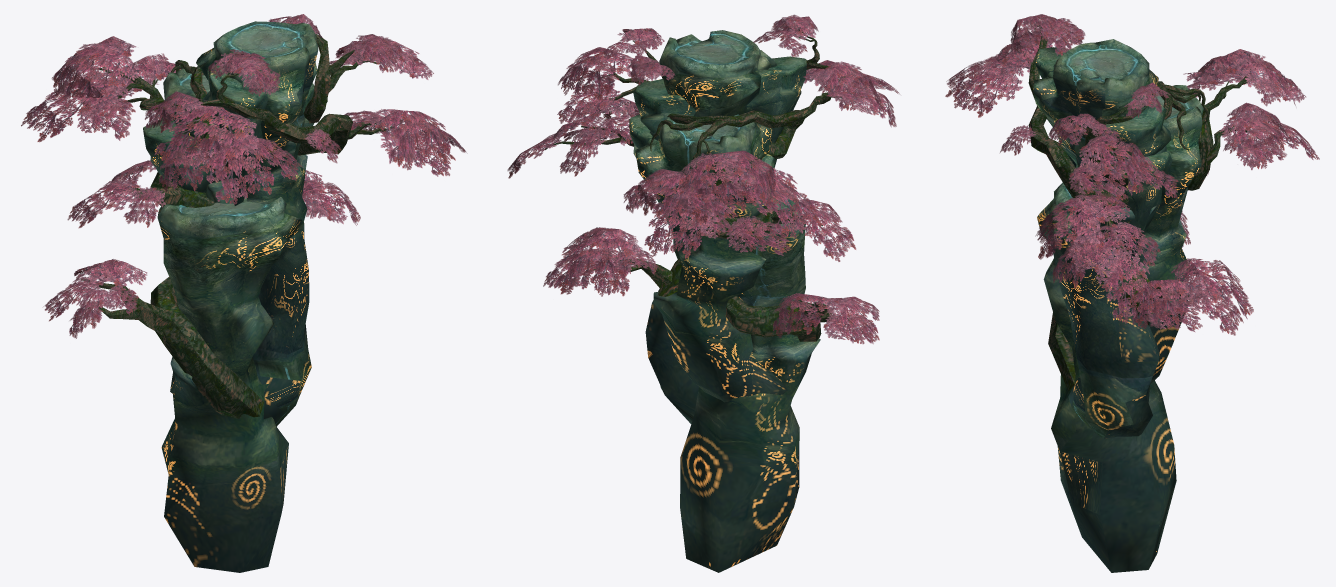
Rendered from Sky_mountain_01.glb.
3 views of the same model, side by side, from view 1: azimuth 30°, elevation 25°; view 2: azimuth 150°, elevation 25°; view 3: azimuth 270°, elevation 25° (orthographic). The views are drawn at different scales.
Visible parts, largest first — view 1: Stone_mountain_01; view 2: Stone_mountain_01; view 3: Stone_mountain_01.
Part boxes in pixels (box(x1,y1,x2,y2)): Stone_mountain_01: box(21, 14, 467, 572); Stone_mountain_01: box(507, 14, 899, 572); Stone_mountain_01: box(945, 14, 1319, 572).
Size of what is drawn, in the model's own units: 5.86 by 7.44 by 4.85.
Materials: 3 (3 with a texture image).
